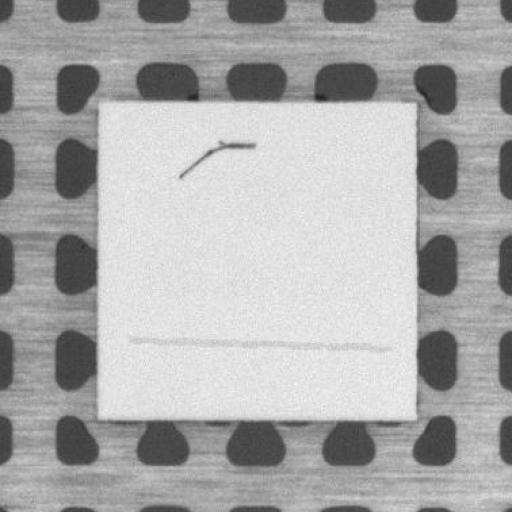DIE_CRACK: (124, 328, 392, 354)
